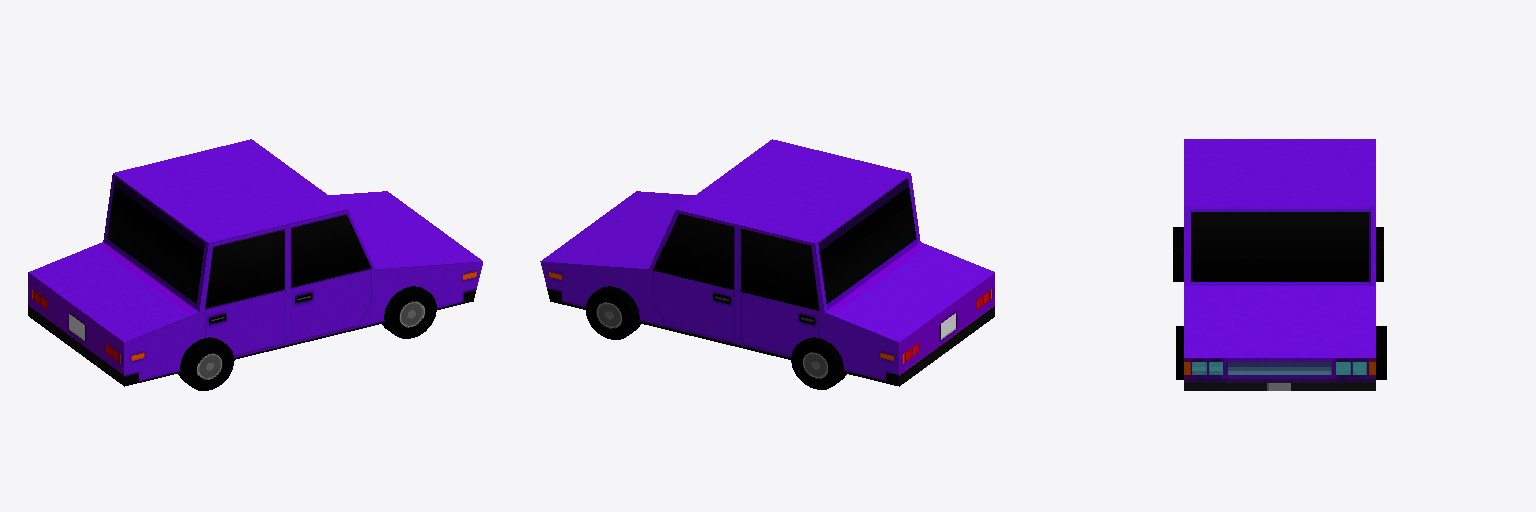
The picture shows the model from 3 angles: view 1: azimuth 30°, elevation 25°; view 2: azimuth 150°, elevation 25°; view 3: azimuth 270°, elevation 25°; orthographic projection.
Visible parts, largest first — view 1: Car_06; view 2: Car_06; view 3: Car_06.
Boxes of the visible parts, <box> form: Car_06: <box>28,139,482,390</box>; Car_06: <box>540,139,994,389</box>; Car_06: <box>1173,139,1386,390</box>.
Bounding box in the file's own units: 5.54 × 2.09 × 2.85.
1 materials, 1 textured.